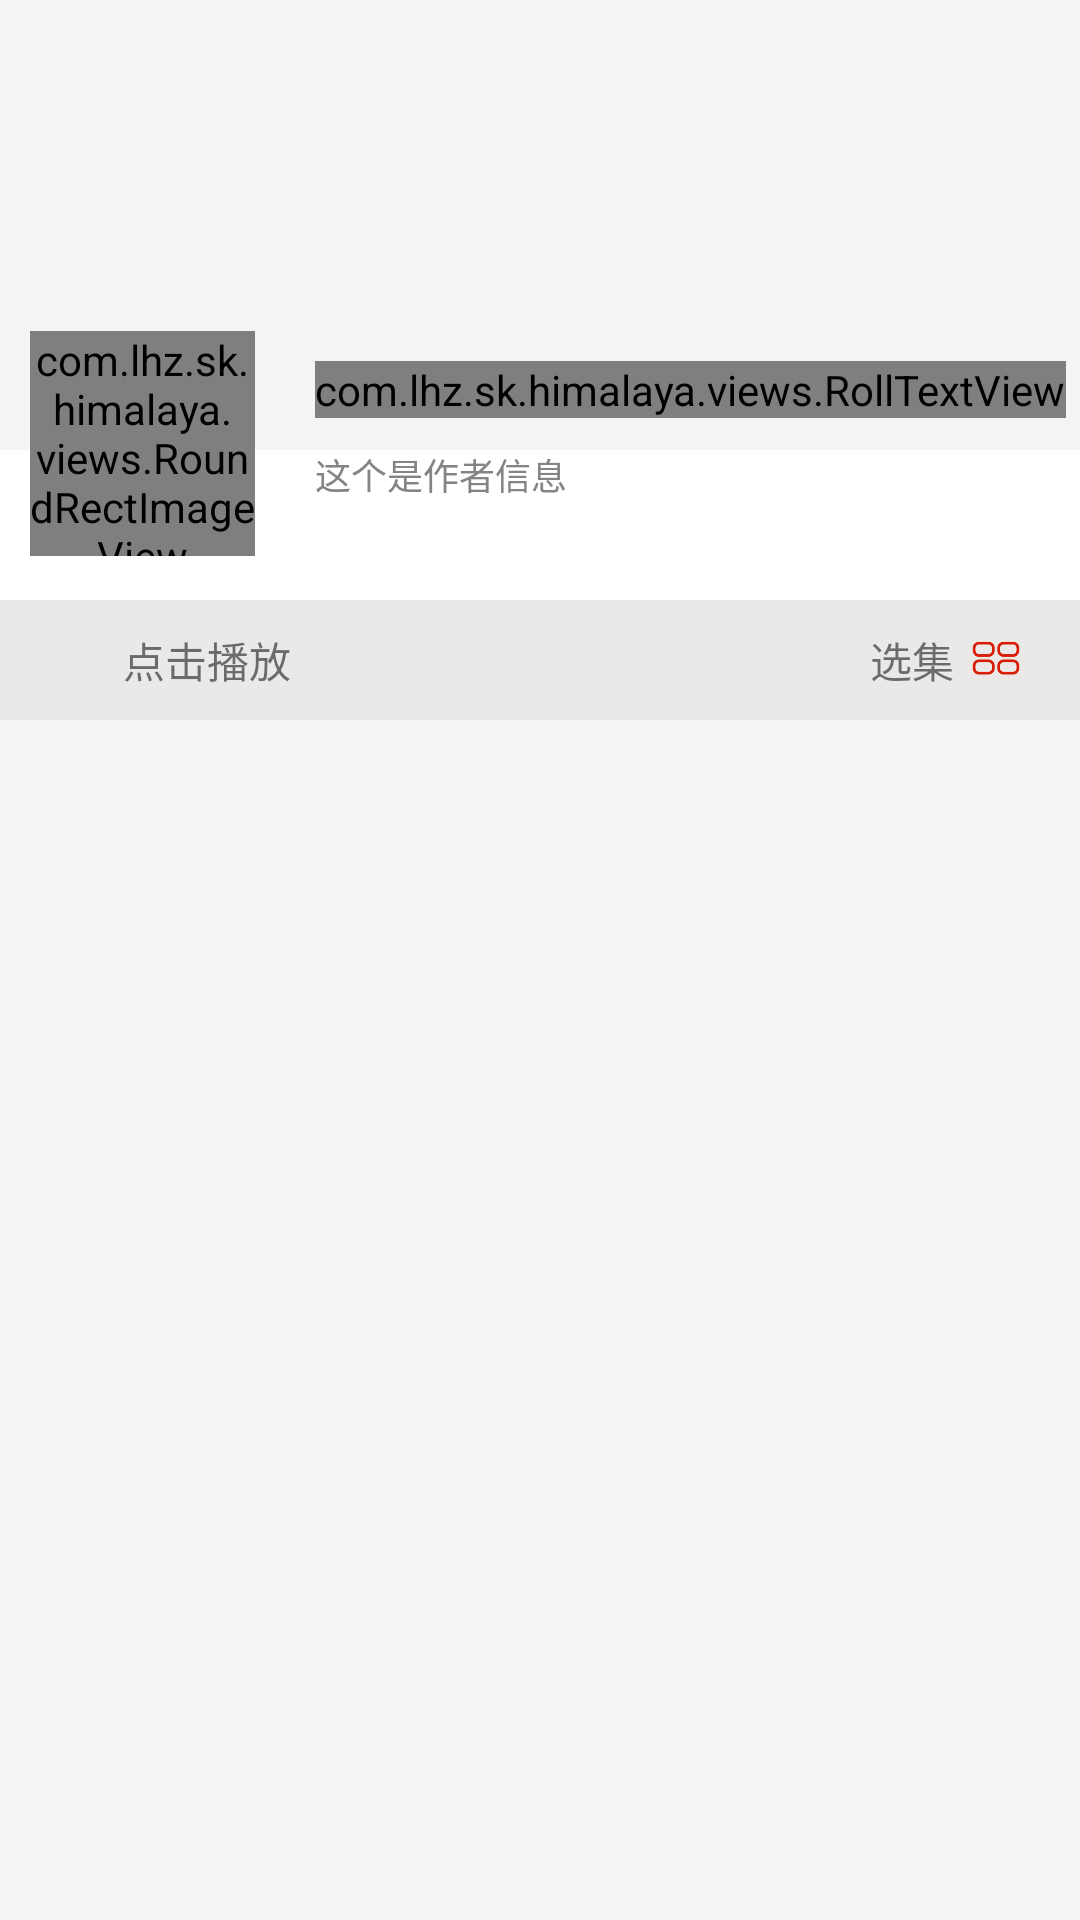

Icon click points for this 1080 × 1920 phone screenshot, format (x,y):
choose: (996,658)
